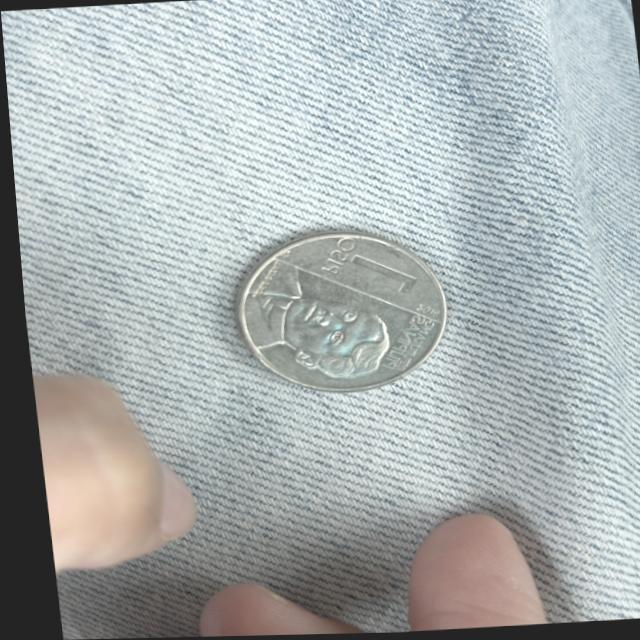1_New_Front: (315, 243, 417, 305)
